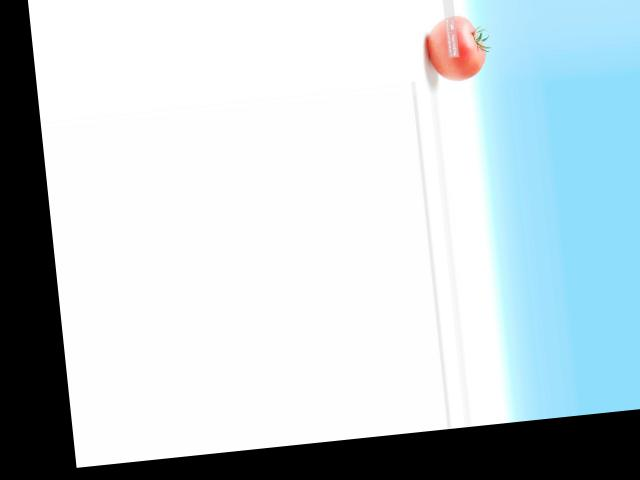tomato: (425, 12, 488, 82)
